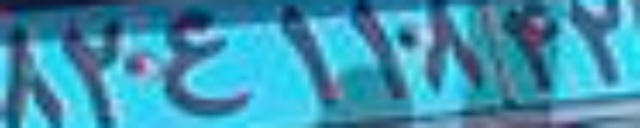1: (346, 0, 409, 100), (277, 5, 340, 103)
2: (62, 18, 131, 127), (568, 0, 628, 85)
4: (503, 4, 563, 94)
8: (1, 20, 67, 127), (420, 0, 485, 94)
ain: (155, 9, 252, 115)
